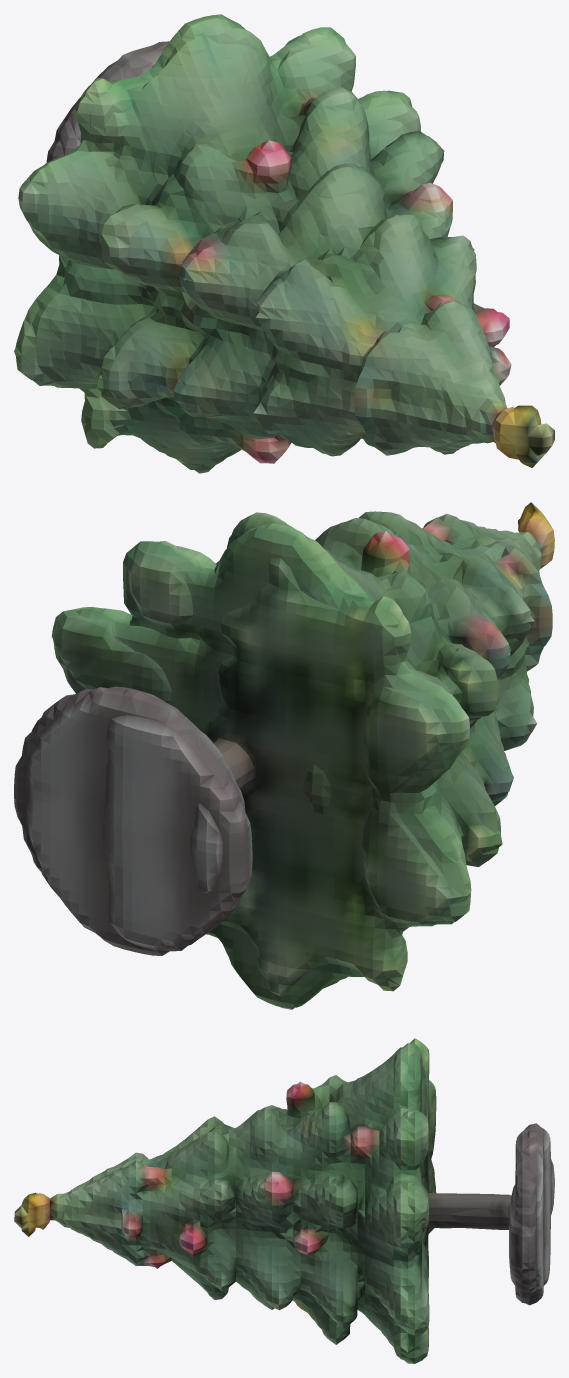
3 renders of one model, top to bottom at view 1: azimuth 30°, elevation 25°; view 2: azimuth 150°, elevation 25°; view 3: azimuth 270°, elevation 25°, orthographic. The views are drawn at different scales.
Parts seen in each view (by area): view 1: world; view 2: world; view 3: world.
Part boxes in pixels (x1,y1,x2,y2): world: [14, 14, 554, 473]; world: [14, 502, 554, 1009]; world: [14, 1038, 554, 1363].
Bounding box in the file's own units: 0.5947 × 0.6512 × 1.04.
